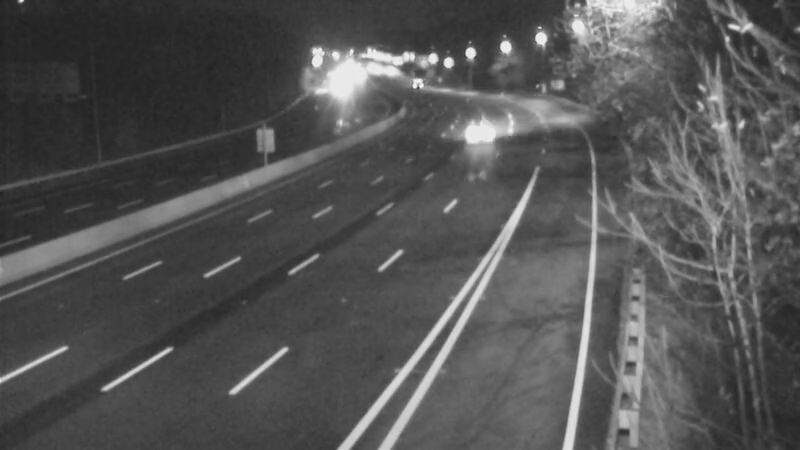vehicle: (389, 56, 439, 106), (455, 103, 505, 153)
